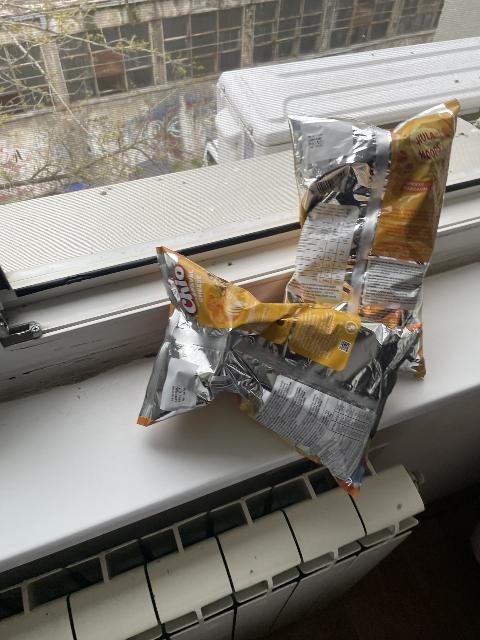Chio Cascaval 125g: (141, 245, 407, 493)
Chio Hula Hoops Cheese 70g: (284, 100, 459, 382)
